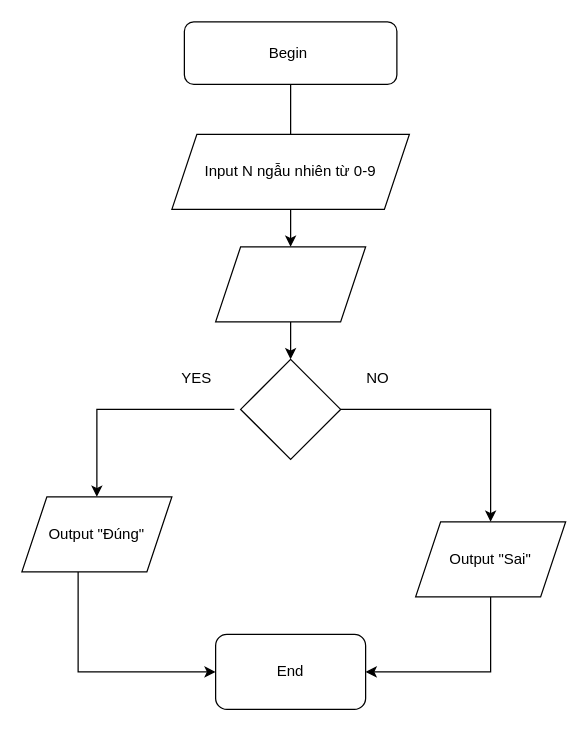
This 588x731 diagram has some shape labels left out. Each missing label, with the centre of its shape:
"Input M" goes at pixel 290 284.
"N==M" goes at pixel 290 408.
